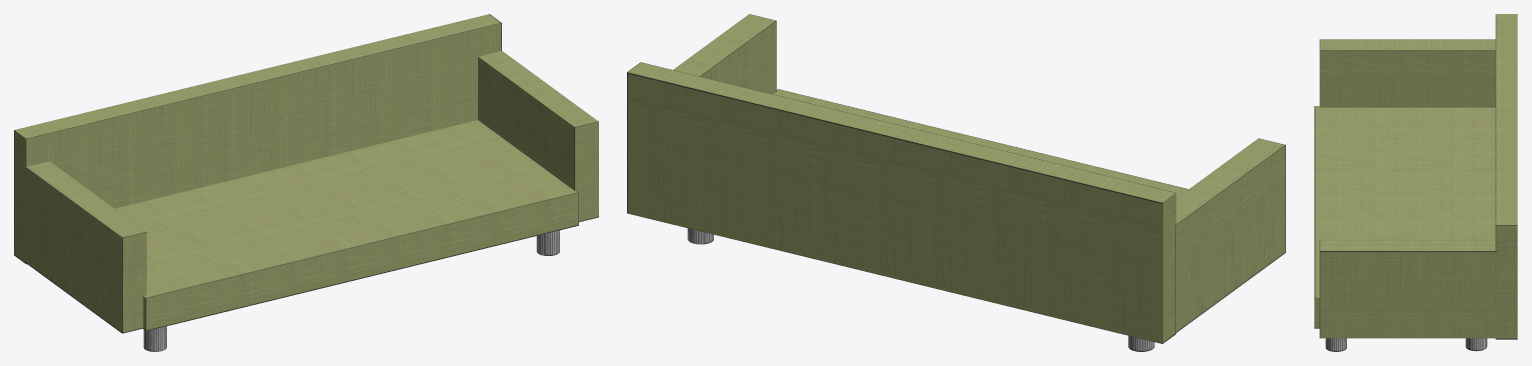
The model's file is Sofa.fbx.
The picture shows the model from 3 angles, left to right: view 1: azimuth 30°, elevation 25°; view 2: azimuth 150°, elevation 25°; view 3: azimuth 270°, elevation 25°; orthographic projection. The views are drawn at different scales.
Visible parts, largest first — view 1: Cylinder.003; view 2: Cylinder.003; view 3: Cylinder.003.
Part boxes in pixels (x1,y1,x2,y2): Cylinder.003: (14,14,598,351); Cylinder.003: (627,14,1285,351); Cylinder.003: (1314,14,1517,351).
Size of the model in its own units: 1040 by 321 by 422.
